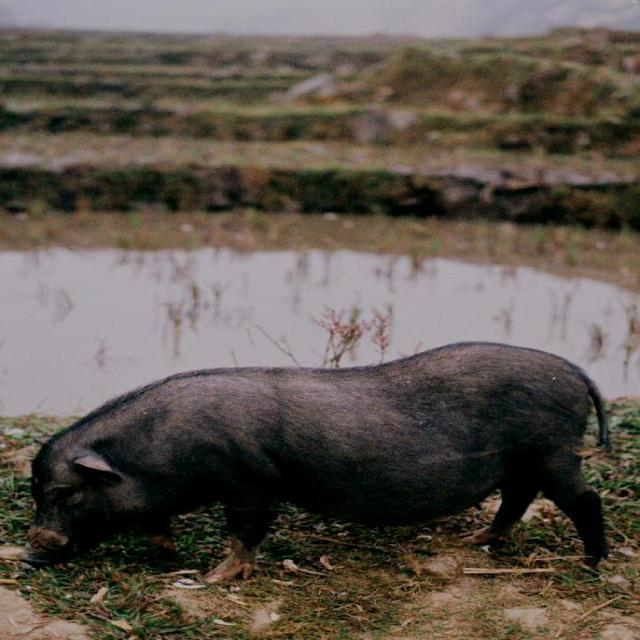pig: (28, 342, 608, 582)
